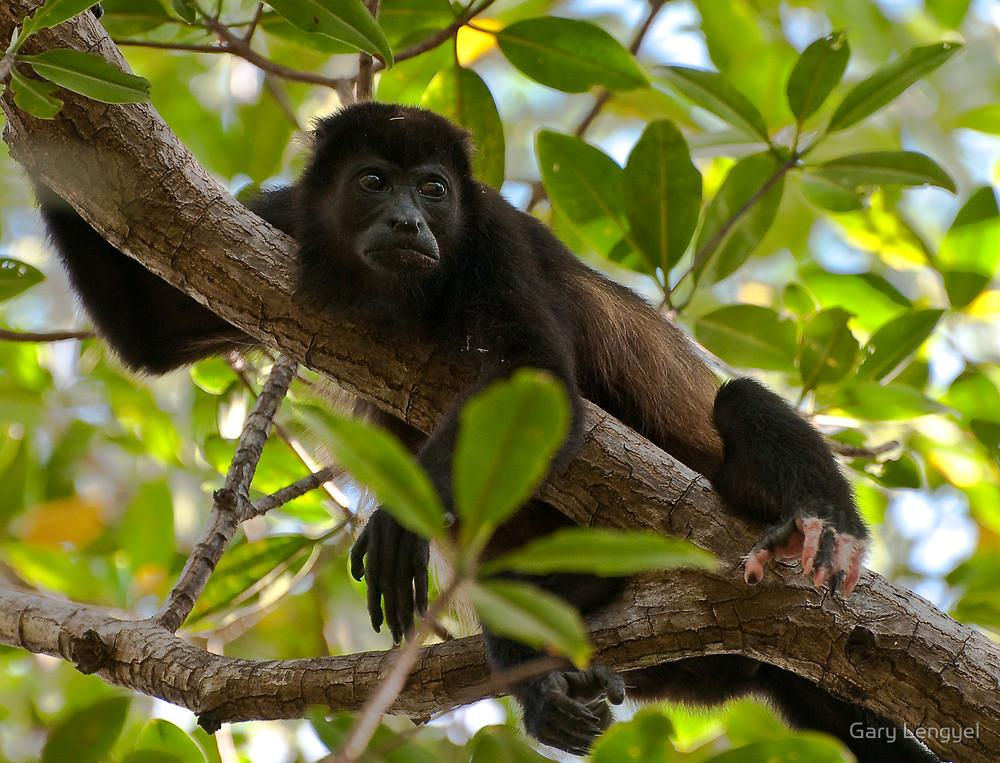monkey: (246, 102, 869, 594), (509, 656, 935, 762), (37, 186, 249, 374), (350, 507, 428, 643)
